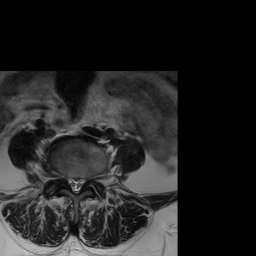CCS_normal: (72, 173, 79, 198)
LFS_severe_stenosis: (86, 171, 93, 186)
LLS_stenosis: (80, 174, 85, 193)
RFS_severe_stenosis: (60, 170, 68, 186)
RLS_stenosis: (68, 172, 73, 192)
